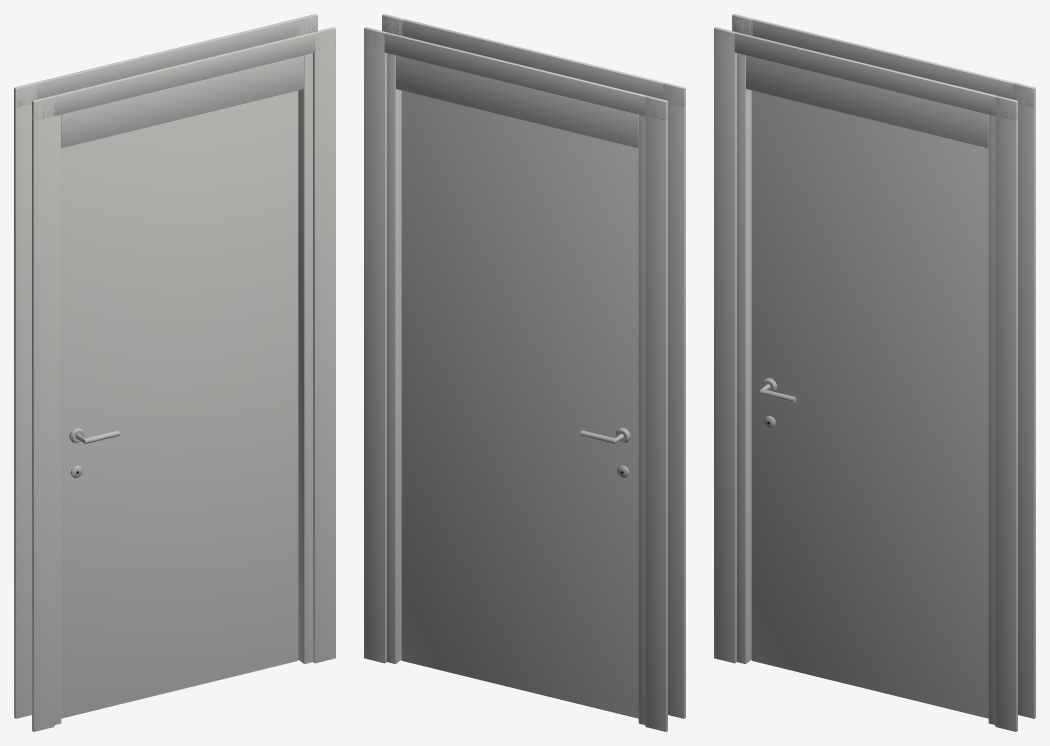
Rendered from rec5USpxYUn2Iik0A.glb.
3 renders of one model, left to right at view 1: azimuth 30°, elevation 25°; view 2: azimuth 150°, elevation 25°; view 3: azimuth 330°, elevation 25°, orthographic.
Visible parts, largest first — view 1: porte_dressing__battant, porte_dressing__cadre; view 2: porte_dressing__battant, porte_dressing__cadre; view 3: porte_dressing__battant, porte_dressing__cadre.
Part boxes in pixels (x1,y1,x2,y2): porte_dressing__battant: [61, 90, 298, 718]; porte_dressing__cadre: [14, 14, 335, 731]; porte_dressing__battant: [401, 90, 638, 718]; porte_dressing__cadre: [364, 14, 685, 731]; porte_dressing__battant: [751, 90, 988, 718]; porte_dressing__cadre: [714, 14, 1035, 731].
Bounding box in the file's own units: 1.13 × 2.25 × 0.1689.
Materials: 3 (1 with a texture image).
